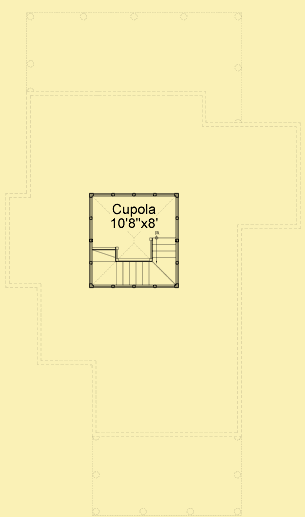stairs: (92, 233, 178, 290)
